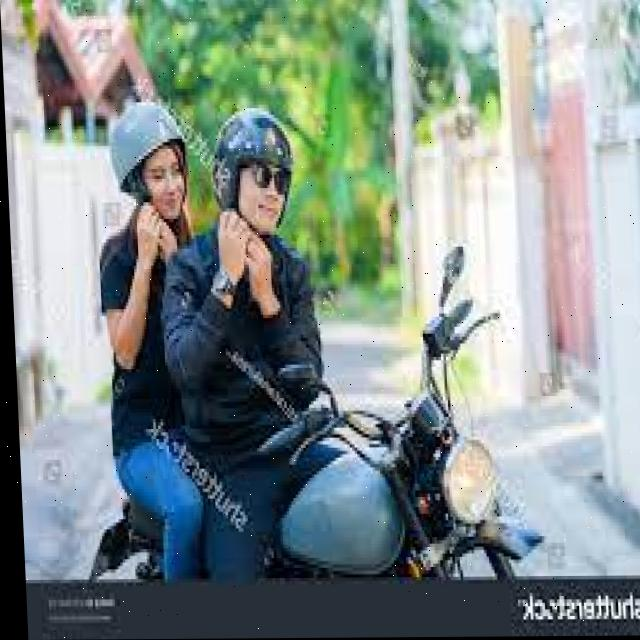Helmet: (204, 109, 298, 223), (109, 92, 187, 193)
